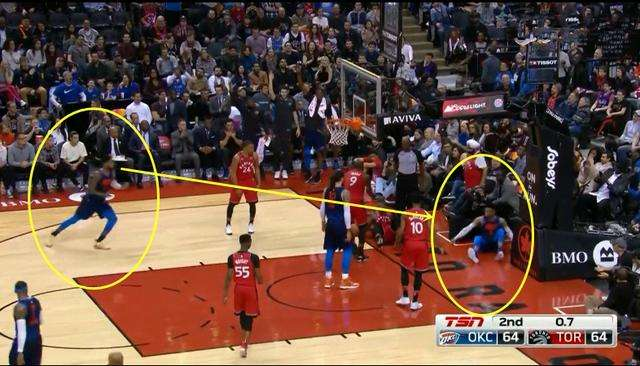10+: (3, 7, 637, 357)
down: (450, 197, 523, 279), (340, 185, 400, 263)
